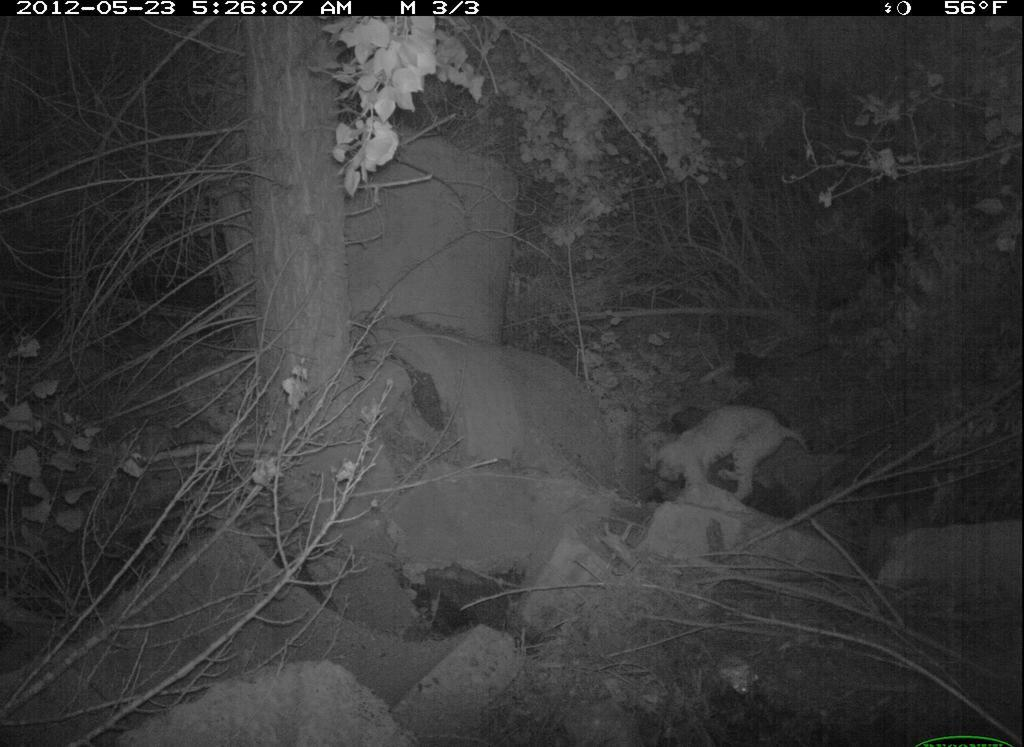bobcat: (632, 400, 815, 514)
